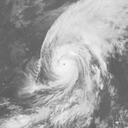cyclone: (38, 34, 101, 99)
